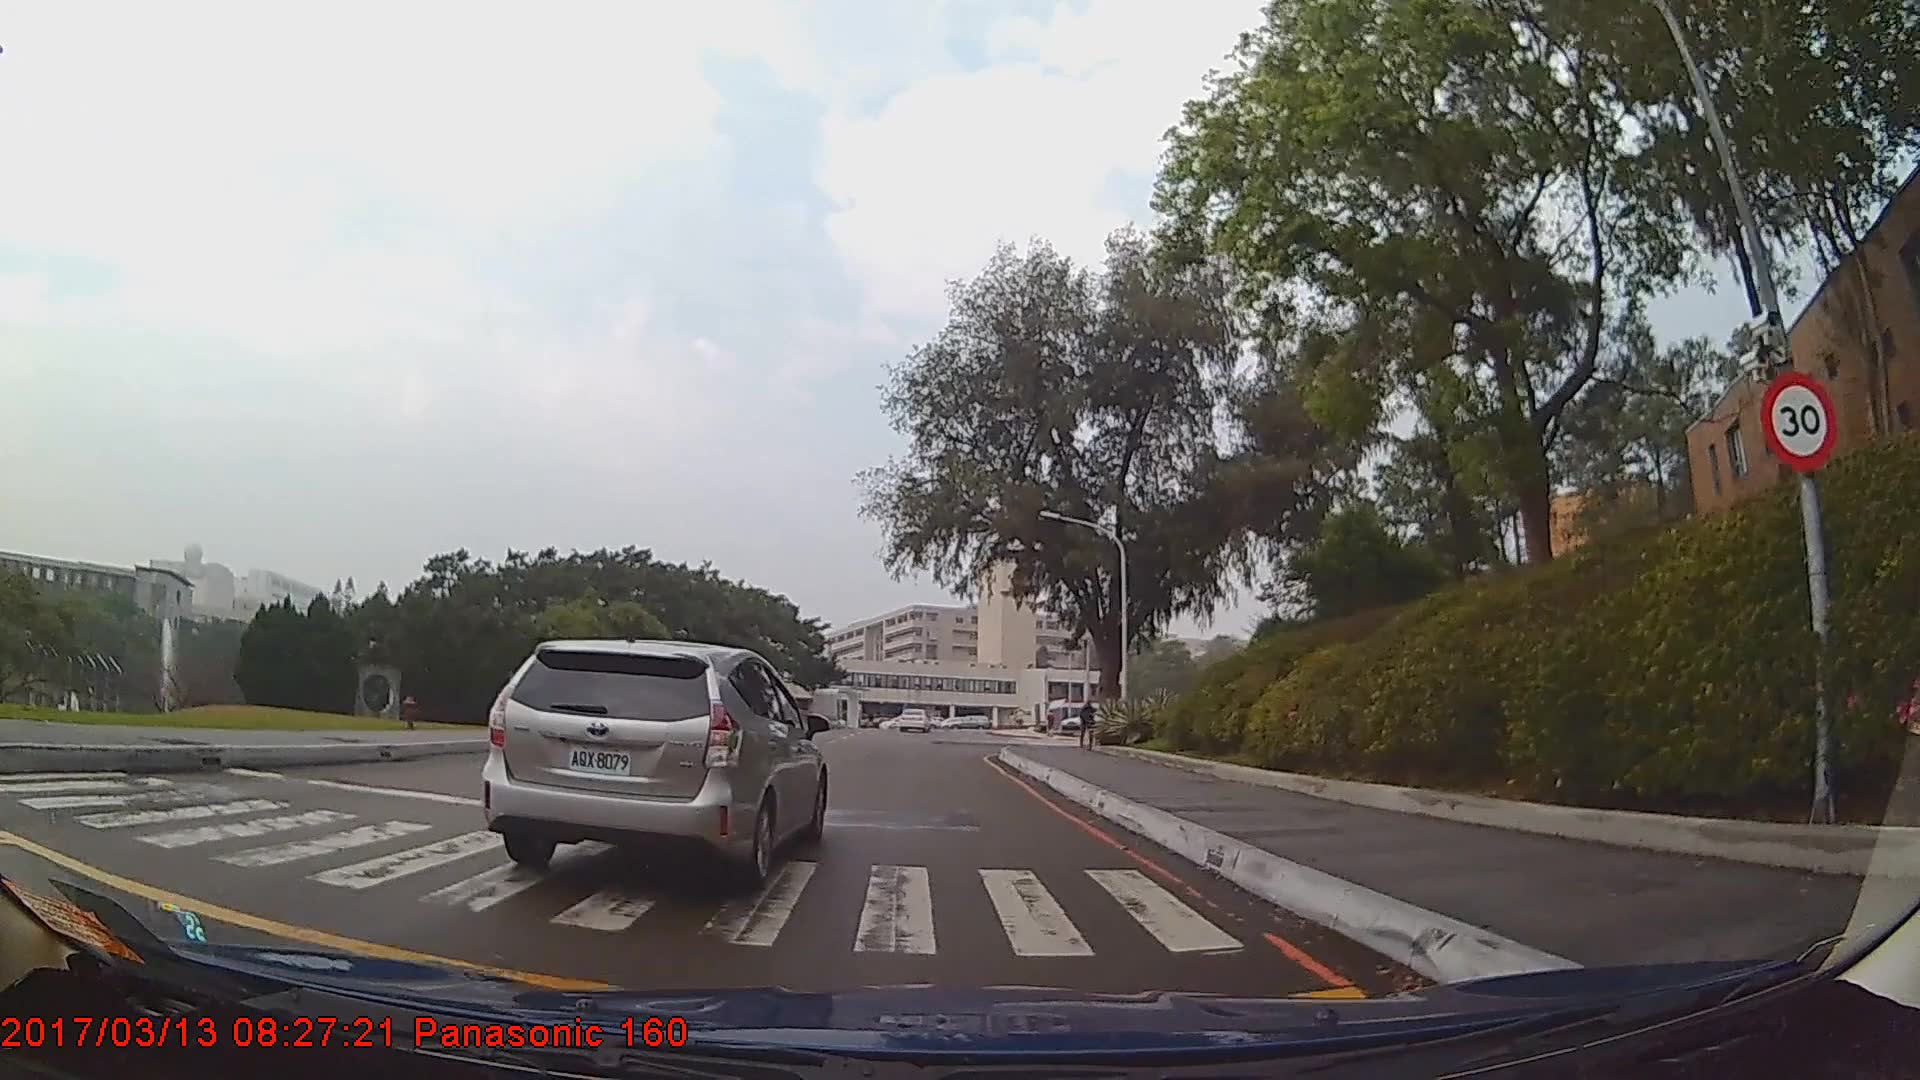pedestrian: (1078, 698, 1099, 752)
vehicle: (477, 634, 829, 887), (895, 706, 928, 733)
